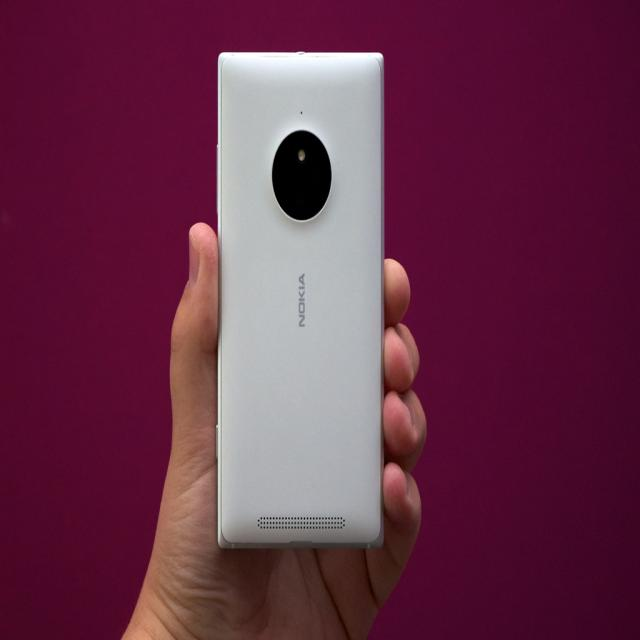Mobile phone: (207, 63, 391, 556)
